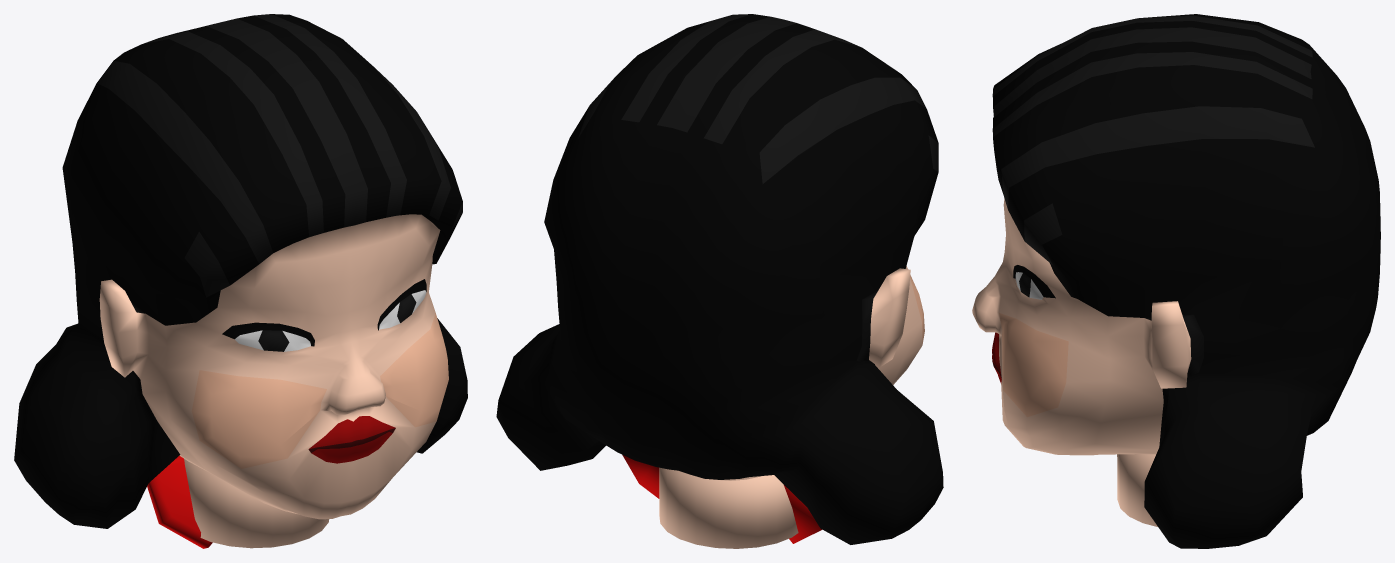
The model's file is dolar3.gltf.
The picture shows the model from 3 angles, left to right: view 1: azimuth 30°, elevation 25°; view 2: azimuth 150°, elevation 25°; view 3: azimuth 270°, elevation 25°; orthographic projection. The views are drawn at different scales.
Visible parts, largest first — view 1: DollHead_Material.001_0, BowTie_Material.001_0; view 2: DollHead_Material.001_0, BowTie_Material.001_0; view 3: DollHead_Material.001_0.
Boxes of the visible parts, x1,y1,x2,y2 form: DollHead_Material.001_0: [14, 14, 467, 548]; BowTie_Material.001_0: [147, 455, 212, 548]; DollHead_Material.001_0: [496, 14, 943, 548]; BowTie_Material.001_0: [622, 455, 822, 543]; DollHead_Material.001_0: [972, 14, 1380, 548].
Size of the model in its own units: 0.6052 by 0.6952 by 0.5352.
Materials: 1 (1 with a texture image).
